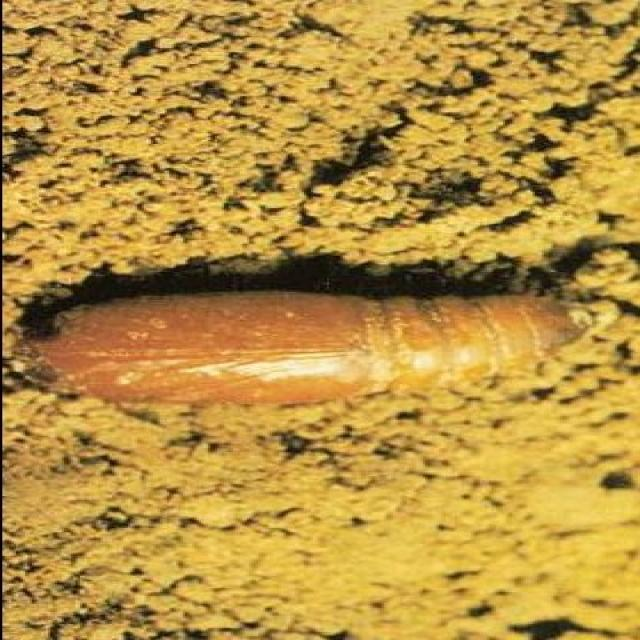black cutworm: (16, 282, 594, 432)
